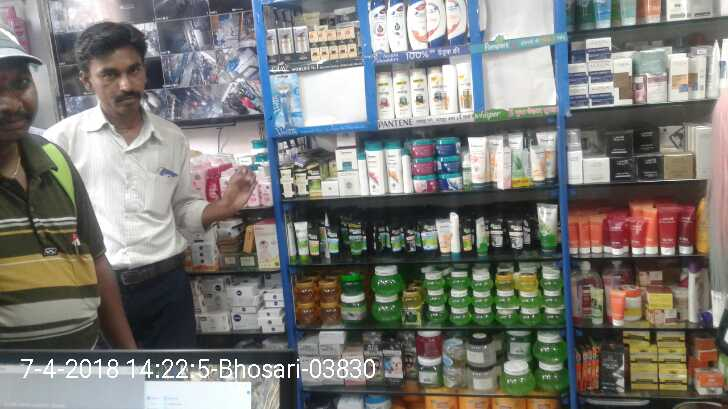venus: (271, 69, 303, 131)
